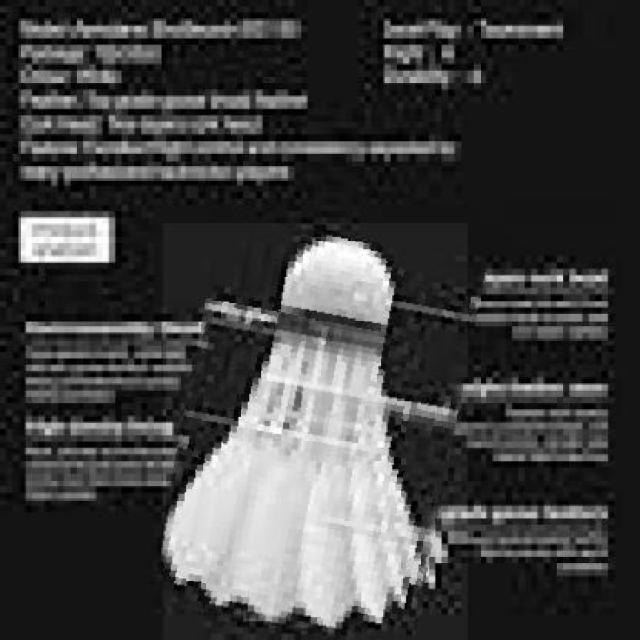Shuttlecock: (163, 223, 468, 640)
